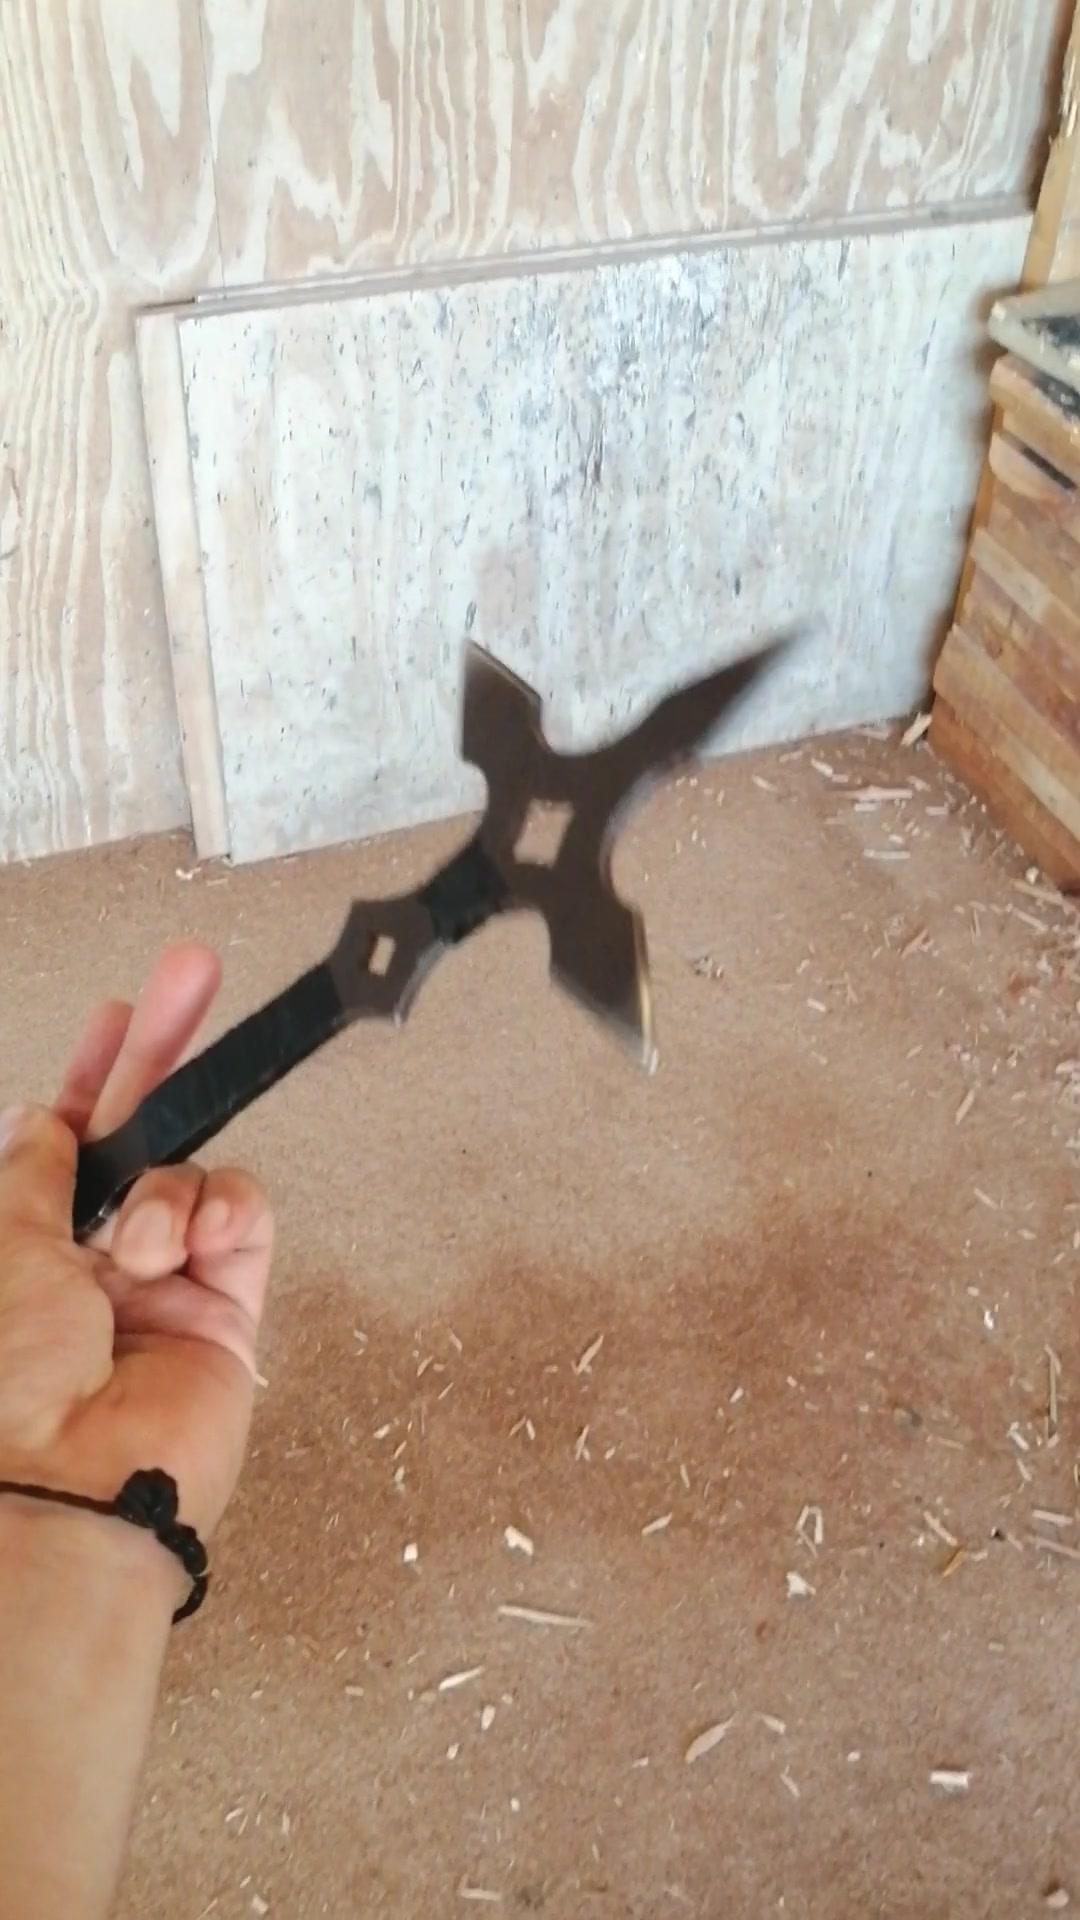Hand Axe: (66, 618, 825, 1248)
